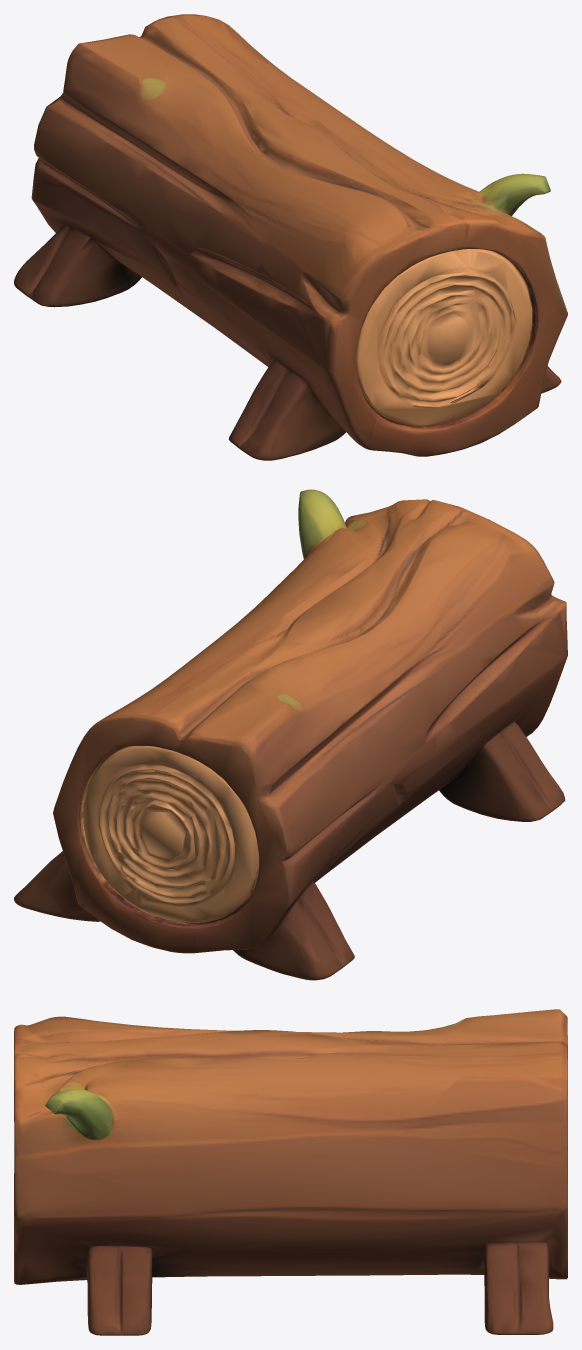
File: log.fbx
3 views of the same model, one above another, from view 1: azimuth 30°, elevation 25°; view 2: azimuth 150°, elevation 25°; view 3: azimuth 270°, elevation 25° (orthographic). The views are drawn at different scales.
Visible parts, largest first — view 1: node_0.001; view 2: node_0.001; view 3: node_0.001.
Boxes of the visible parts, x1=… form: node_0.001: x1=14, y1=14, x2=567, y2=460; node_0.001: x1=14, y1=489, x2=567, y2=980; node_0.001: x1=14, y1=1009, x2=567, y2=1335.
Size of the model in its own units: 0.2685 by 0.1911 by 0.4248.
Materials: 1 (1 with a texture image).
